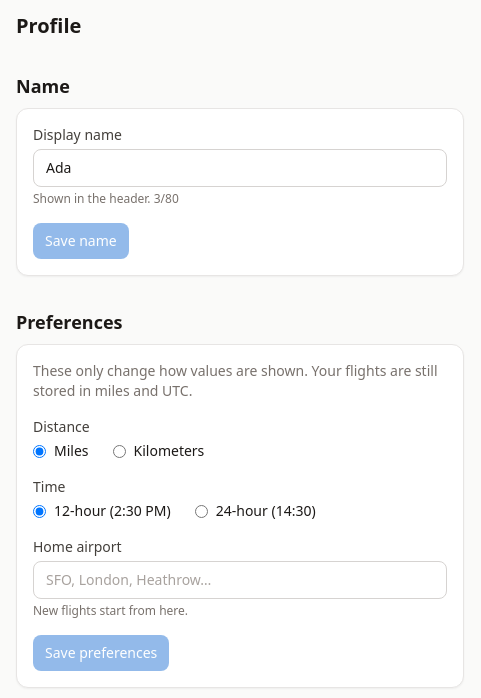
Preferences › shows the defaults, works with auth off, and saves changes
Expected: the radio button labelled "Miles" is checked, [33,444,46,458]
Expected: the radio button labelled "12-hour (2:30 PM)" is checked, [33,504,46,518]
Click the radio button labelled "Kilometers". click: click(119, 451)
box: [112,444,126,458]
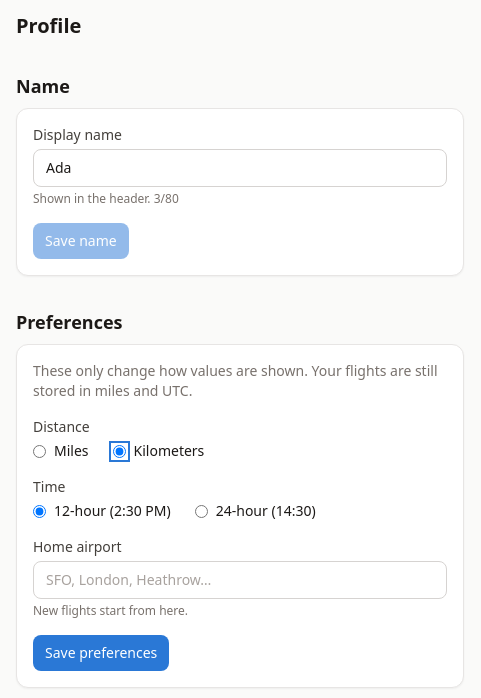
Click the radio button labelled "24-hour (14:30)". click: click(201, 511)
box: [195,504,208,518]
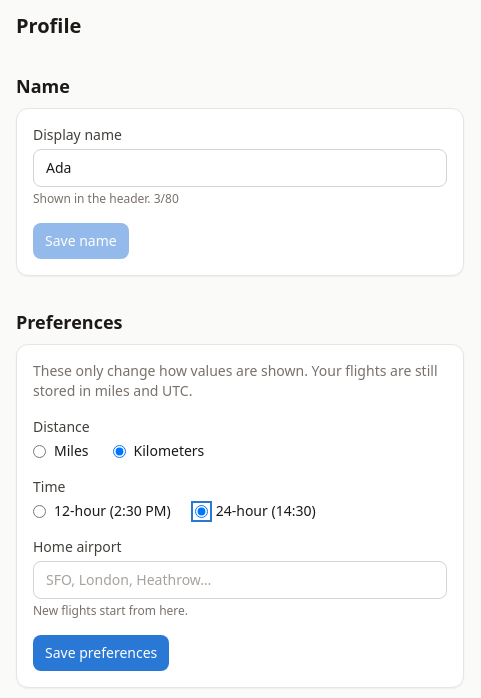
Click the button "Save preferences". click: click(101, 653)
box: [33,635,169,671]
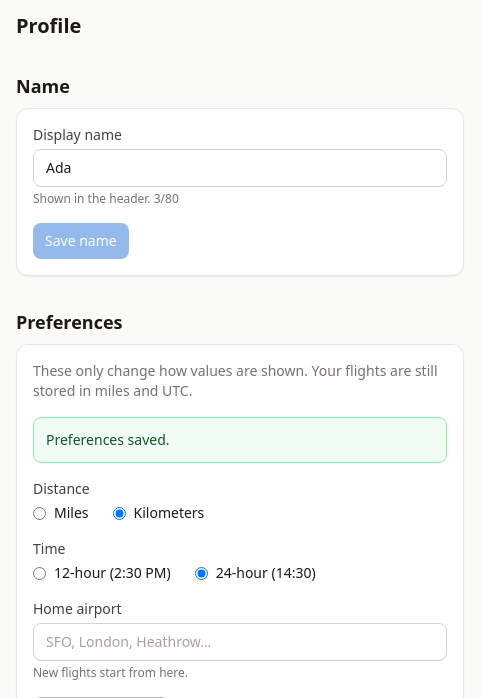
Now the radio button labelled "Kilometers" is checked, box [112,506,126,520]
Now the text "Preferences saved." is shown, box [33,417,447,463]
